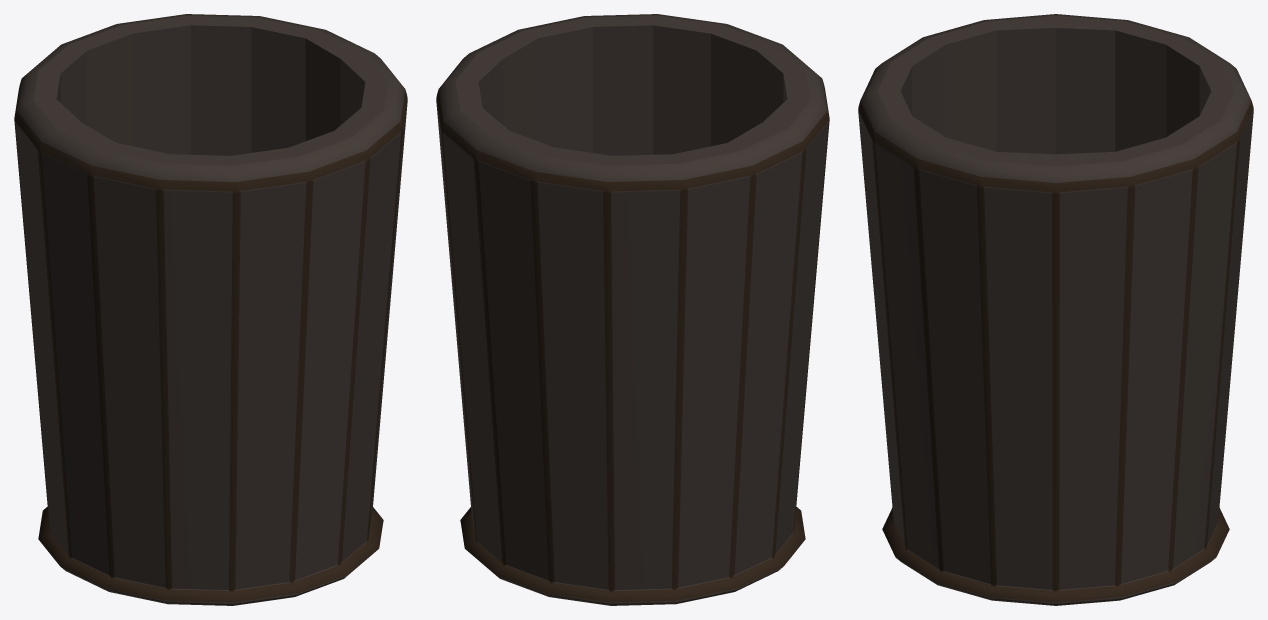
Rendered from Trashcan.fbx.
3 renders of one model, left to right at view 1: azimuth 30°, elevation 25°; view 2: azimuth 150°, elevation 25°; view 3: azimuth 270°, elevation 25°, orthographic.
Parts seen in each view (by area): view 1: pCylinder1; view 2: pCylinder1; view 3: pCylinder1.
Part boxes in pixels (left/top/right/bottom): pCylinder1: left=14, top=14, right=407, bottom=605; pCylinder1: left=436, top=14, right=829, bottom=605; pCylinder1: left=858, top=14, right=1253, bottom=605.
Size of the model in its own units: 17.11 by 21.3 by 17.11.
